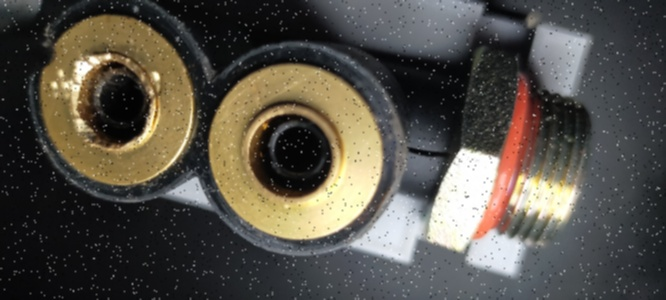bump: (25, 30, 55, 80)
craze: (403, 145, 453, 160)
